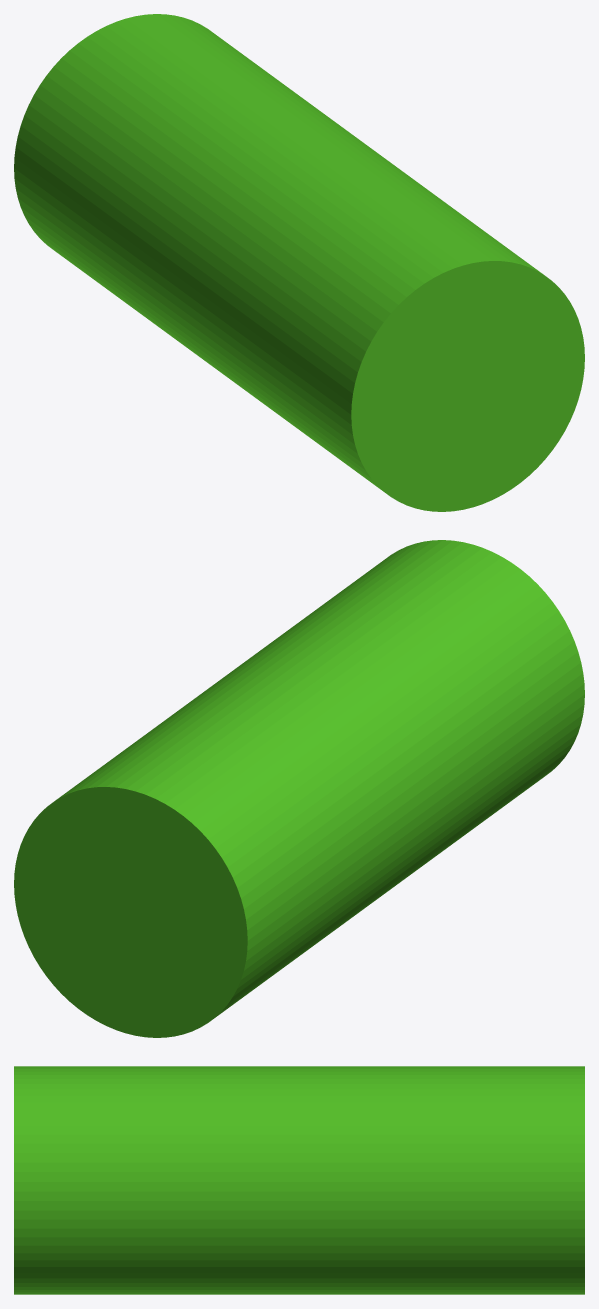
File: GreenBuoyColor.dae
3 renders of one model, top to bottom at view 1: azimuth 30°, elevation 25°; view 2: azimuth 150°, elevation 25°; view 3: azimuth 270°, elevation 25°, orthographic. The views are drawn at different scales.
Parts seen in each view (by area): view 1: GREEN-BUOY; view 2: GREEN-BUOY; view 3: GREEN-BUOY.
Boxes of the visible parts, box(x1,y1,x2,y2) form: GREEN-BUOY: box(14, 14, 584, 511); GREEN-BUOY: box(14, 540, 584, 1037); GREEN-BUOY: box(14, 1066, 584, 1294).
Bounding box in the file's own units: 10.16 × 25.4 × 10.15.
